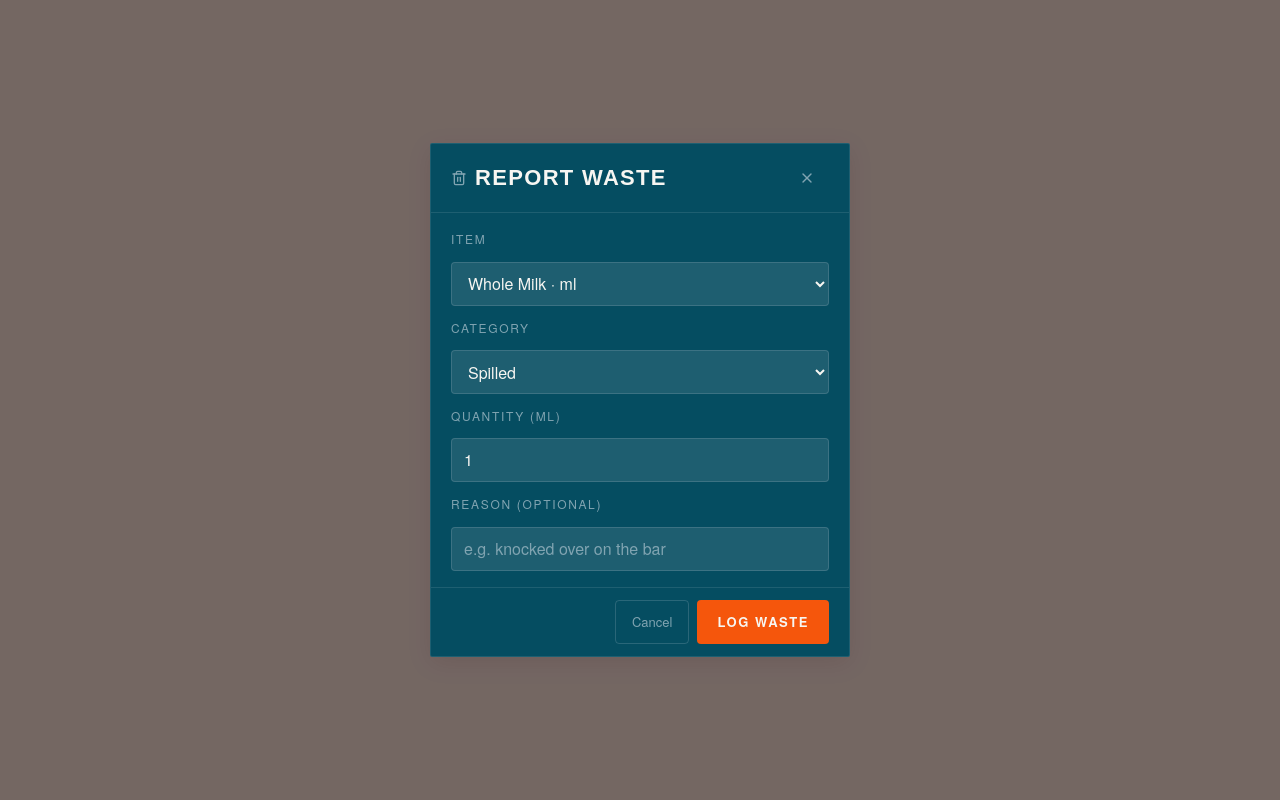
Test: WasteDialog quantity › shows a visible message for -1 and logs nothing
Replace the text in the number field labelled "Quantity (ml)" with "-1" at (640, 460), box [451, 438, 829, 482]
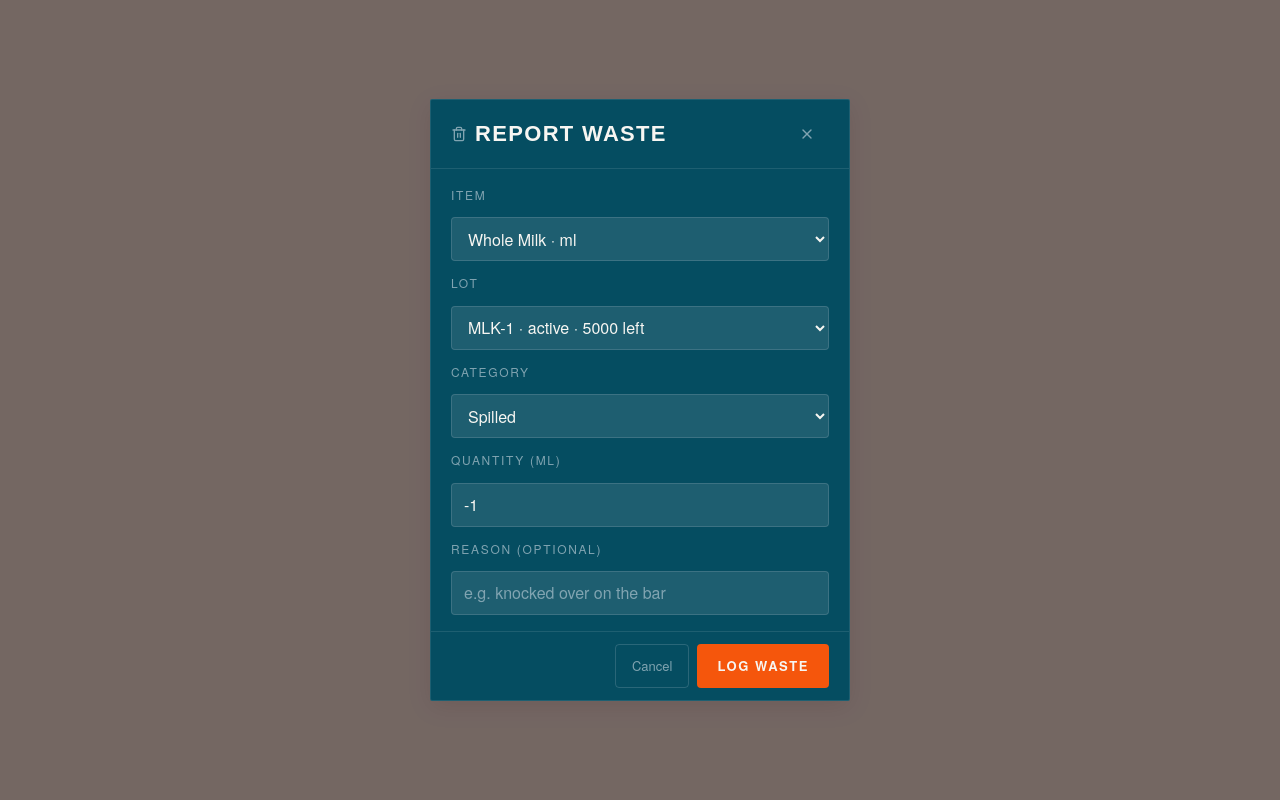
Click the button "Log Waste".
click(763, 666)  # box [697, 644, 829, 688]
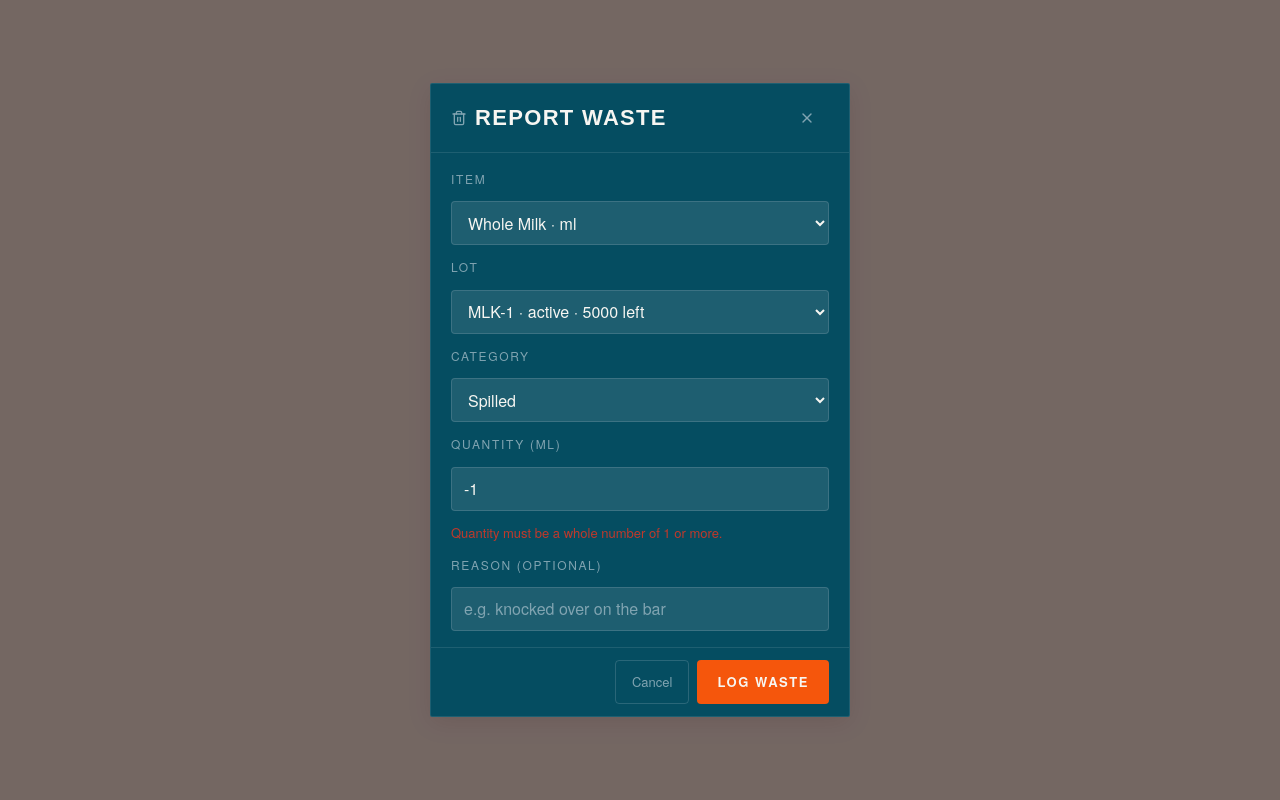
expect the message shows "Quantity": met, box [451, 522, 722, 542]
